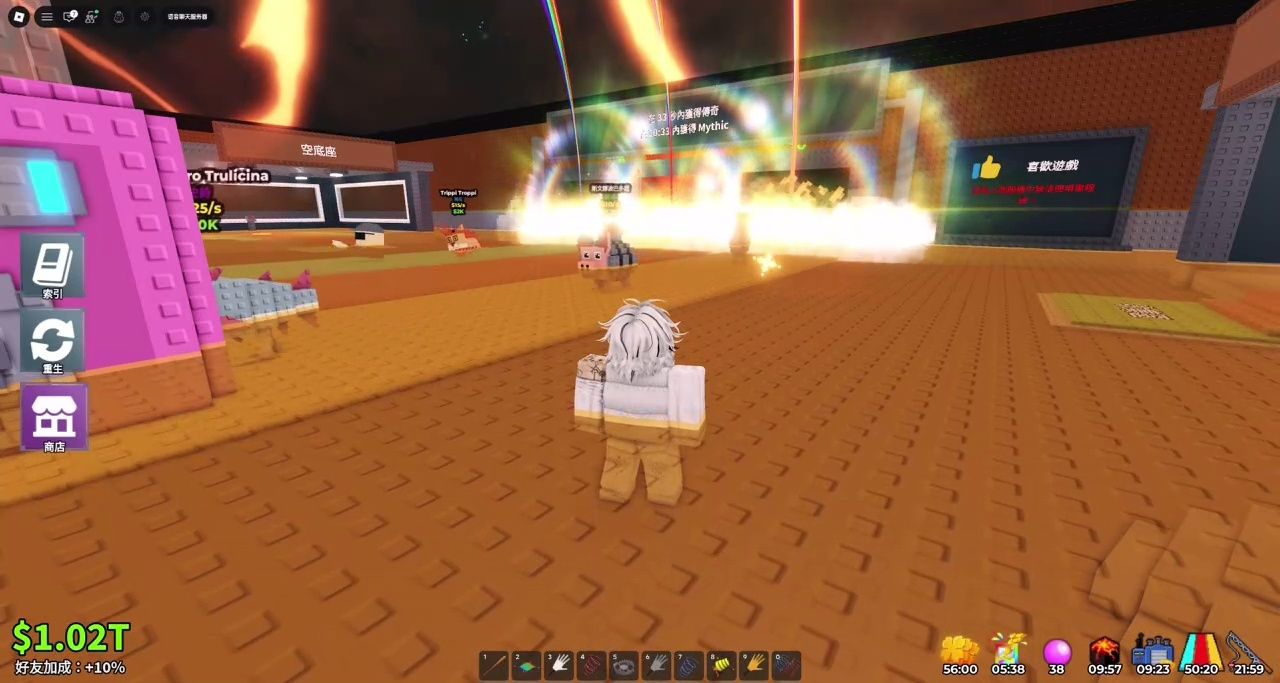price_tag: (376, 184, 407, 214)
